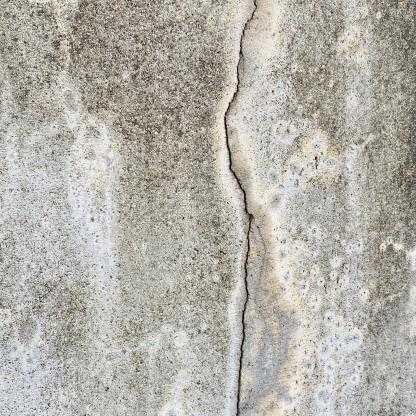crack: (223, 2, 258, 413)
